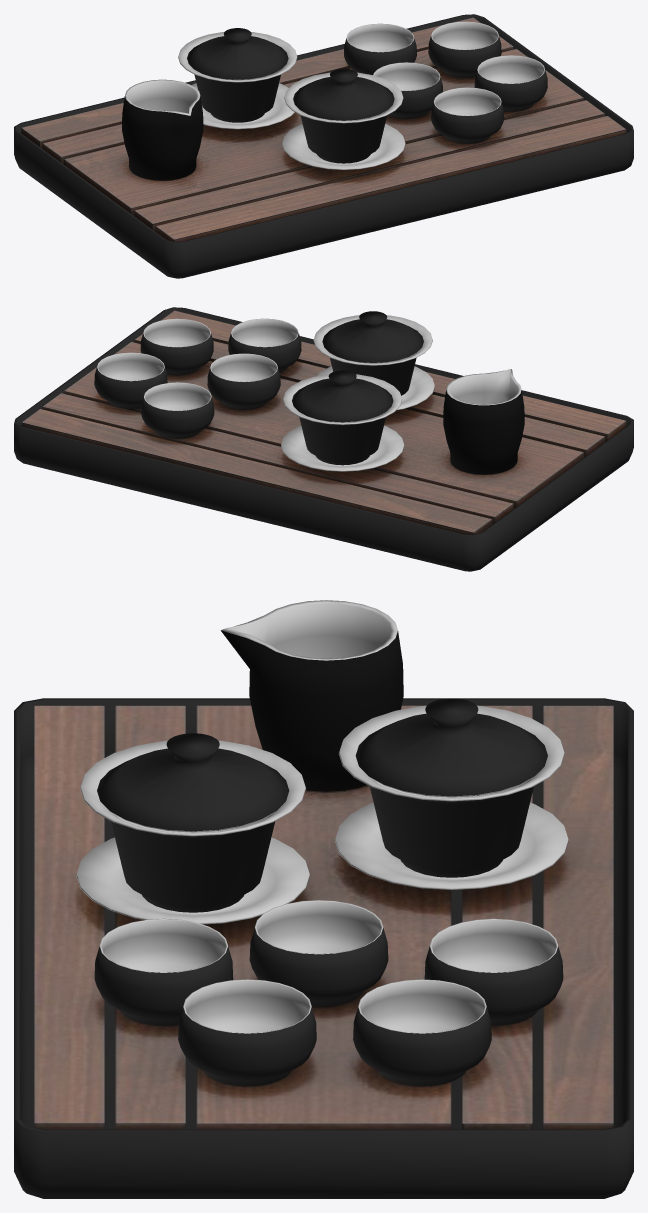
The model's file is teaset.gltf.
3 views of the same model, one above another, from view 1: azimuth 30°, elevation 25°; view 2: azimuth 150°, elevation 25°; view 3: azimuth 270°, elevation 25° (orthographic). The views are drawn at different scales.
Visible parts, largest first — view 1: Cube.003; view 2: Cube.003; view 3: Cube.003.
Part boxes in pixels (left/top/right/bottom): Cube.003: left=14, top=14, right=633, bottom=278; Cube.003: left=14, top=307, right=633, bottom=571; Cube.003: left=14, top=600, right=633, bottom=1198.
Bounding box in the file's own units: 0.5059 × 0.1284 × 0.3059.
Materials: 4 (1 with a texture image).
